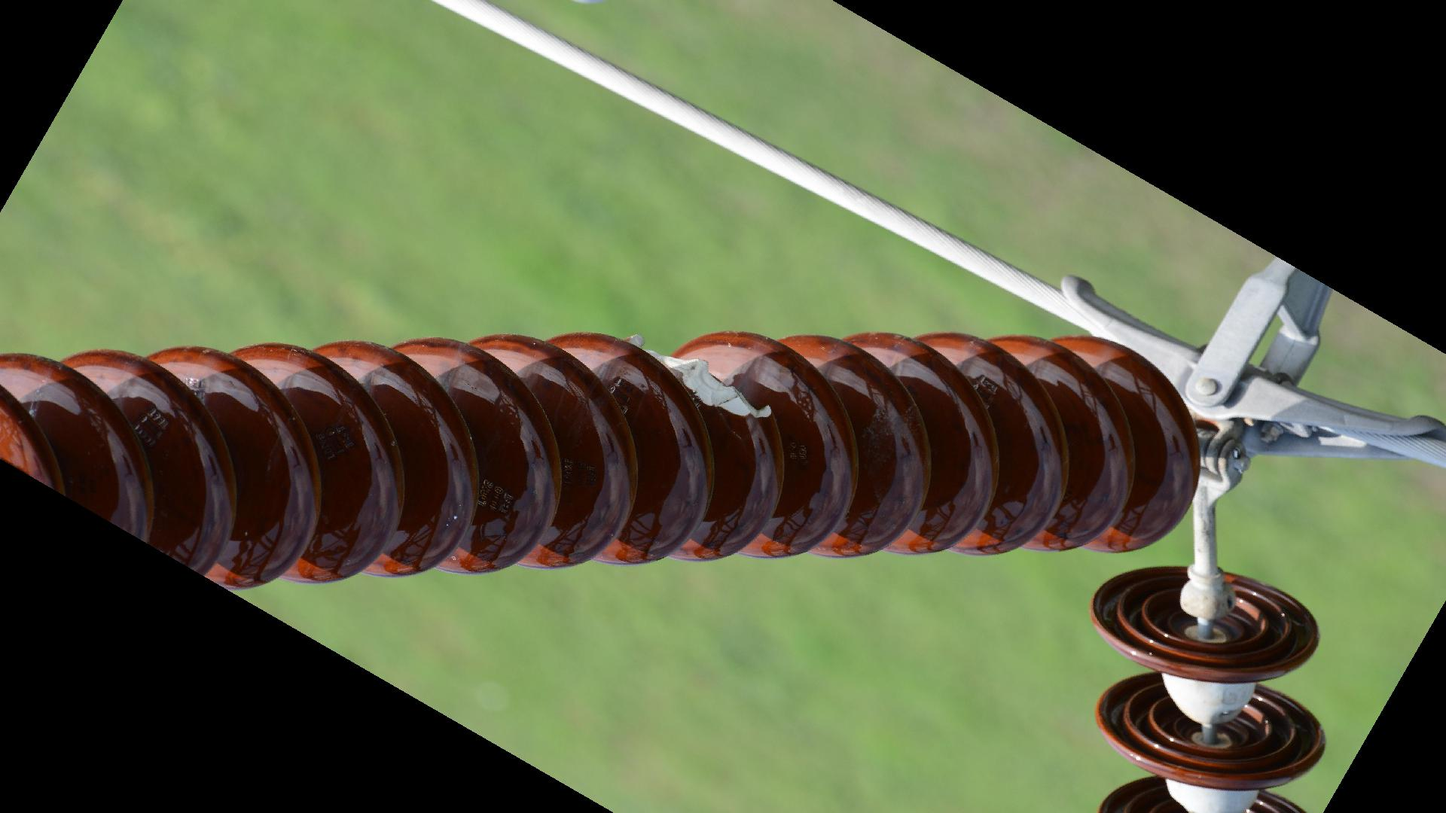insulator: (1, 324, 1210, 598), (1086, 566, 1332, 813)
insulator_breakage: (617, 324, 781, 434)
